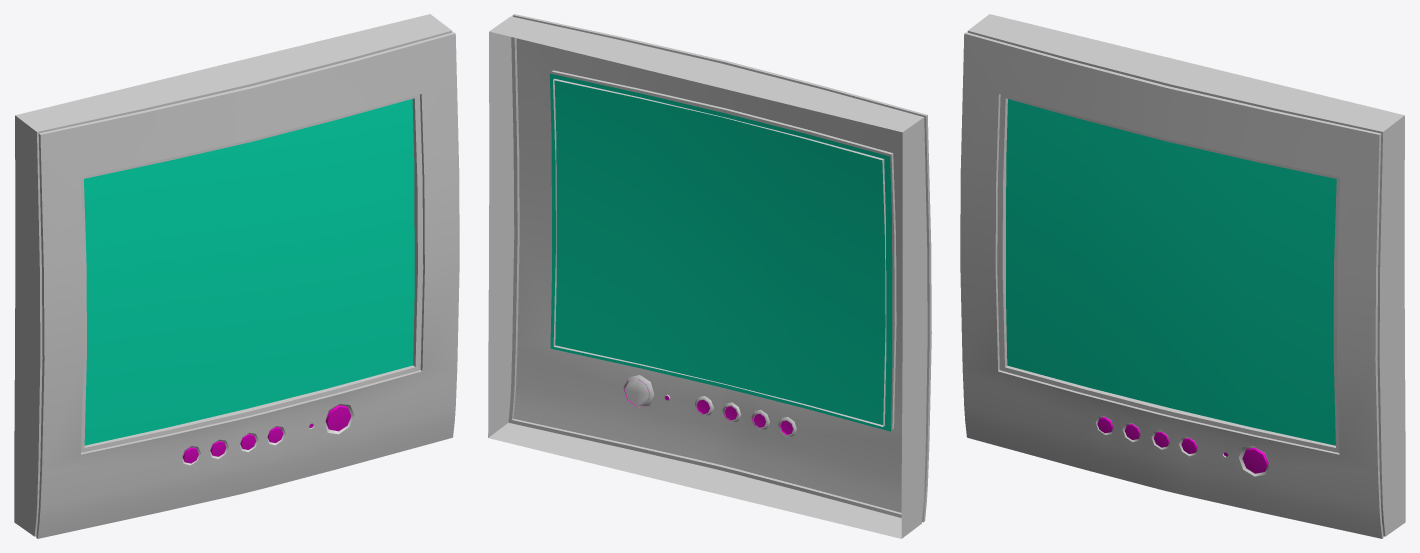
File: SM_Monitor.fbx
3 renders of one model, left to right at view 1: azimuth 30°, elevation 25°; view 2: azimuth 150°, elevation 25°; view 3: azimuth 330°, elevation 25°, orthographic.
Visible parts, largest first — view 1: CCTVMonitor; view 2: CCTVMonitor; view 3: CCTVMonitor.
Part boxes in pixels (x1,y1,x2,y2): CCTVMonitor: [14, 14, 459, 538]; CCTVMonitor: [488, 14, 931, 538]; CCTVMonitor: [960, 14, 1405, 538].
Size of what is drawn, in the model's own units: 89.53 by 83.99 by 12.62.
